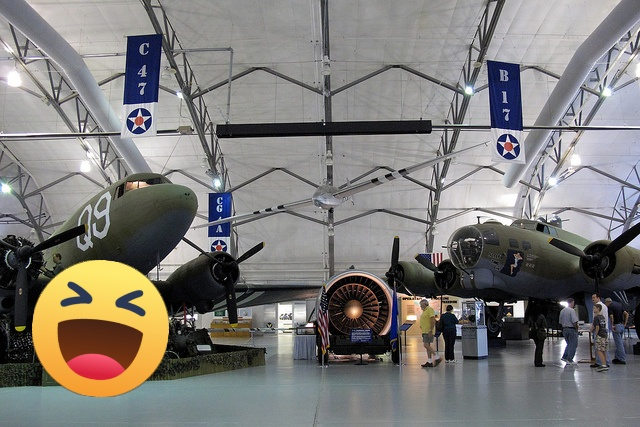haha: (32, 260, 169, 397)
